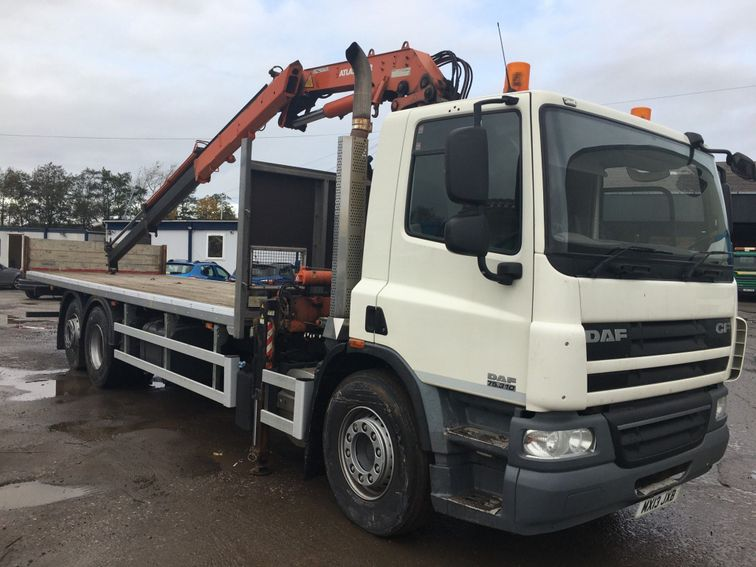Semi: (24, 39, 746, 538)
